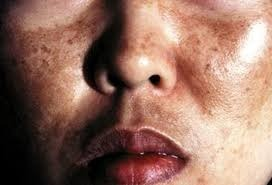Melasma: (0, 9, 269, 58), (181, 47, 269, 123), (77, 26, 88, 92)
